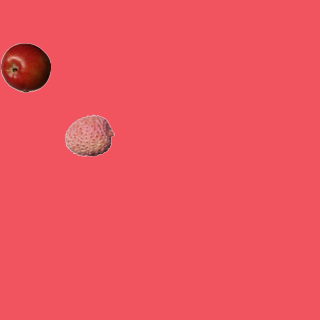Apple Braeburn: (0, 42, 50, 92)
Lychee: (64, 110, 114, 160)
